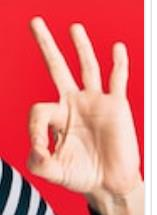left: (24, 17, 135, 188)
